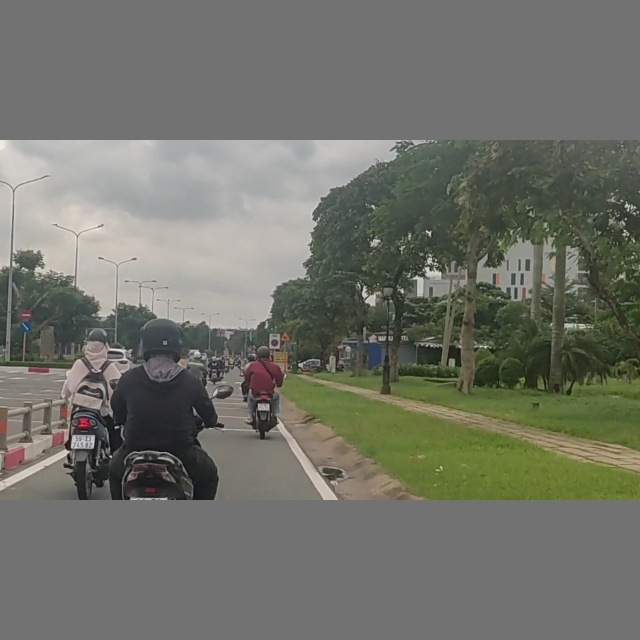P.102: (21, 309, 32, 321)
P.130: (271, 339, 279, 347)
R.302a: (20, 322, 31, 332)
W.225: (281, 330, 291, 342)
